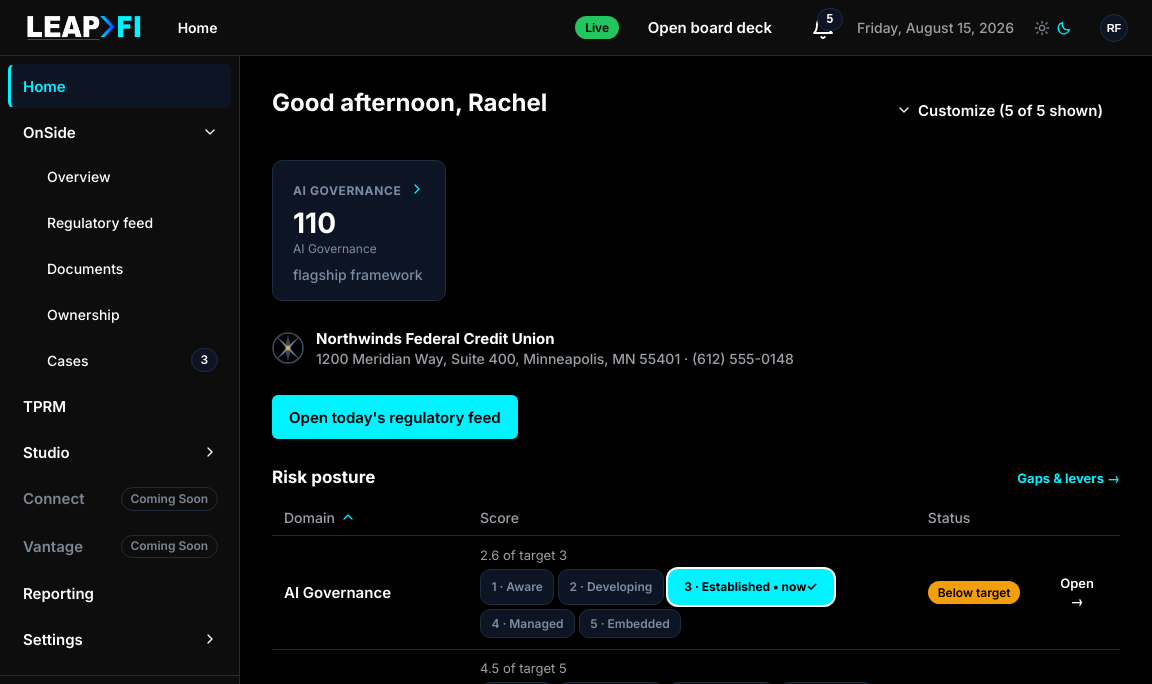
Test: Home customization: visibleKeys flow bar -> panels (base 4122–4193) › toggling a panel back on appends it to the END of the order (base homePanelToggle push semantics, 4149–4172)
Click the button "Customize (5 of 5 shown)" at x=999, y=110, box [879, 88, 1120, 132]
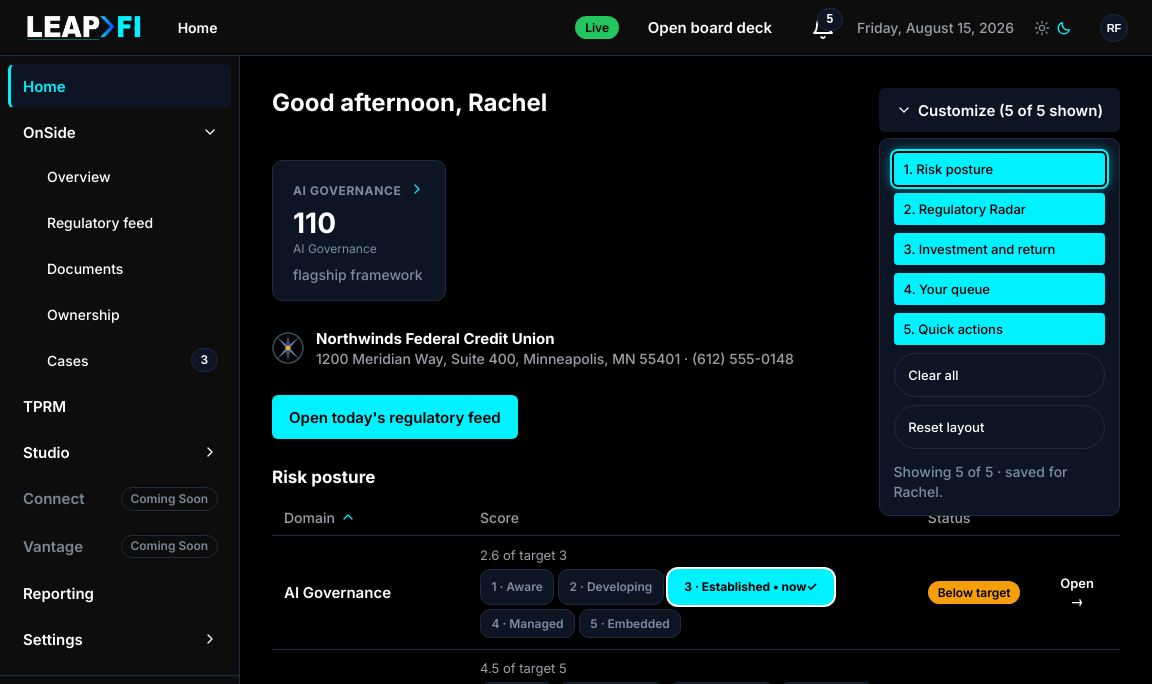
Click the button "1. Risk posture" at x=999, y=169, box [894, 153, 1105, 185]
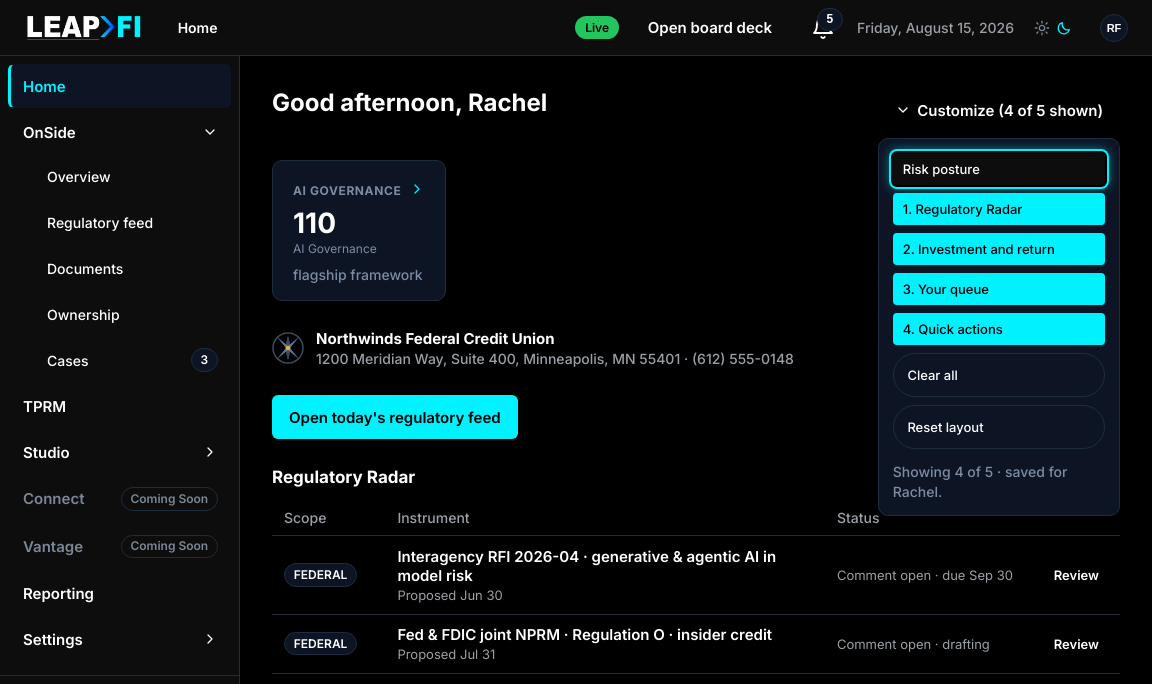
Note: Now off — the chip loses its position number.
Click the button "Risk posture" at x=999, y=169, box [893, 153, 1105, 185]
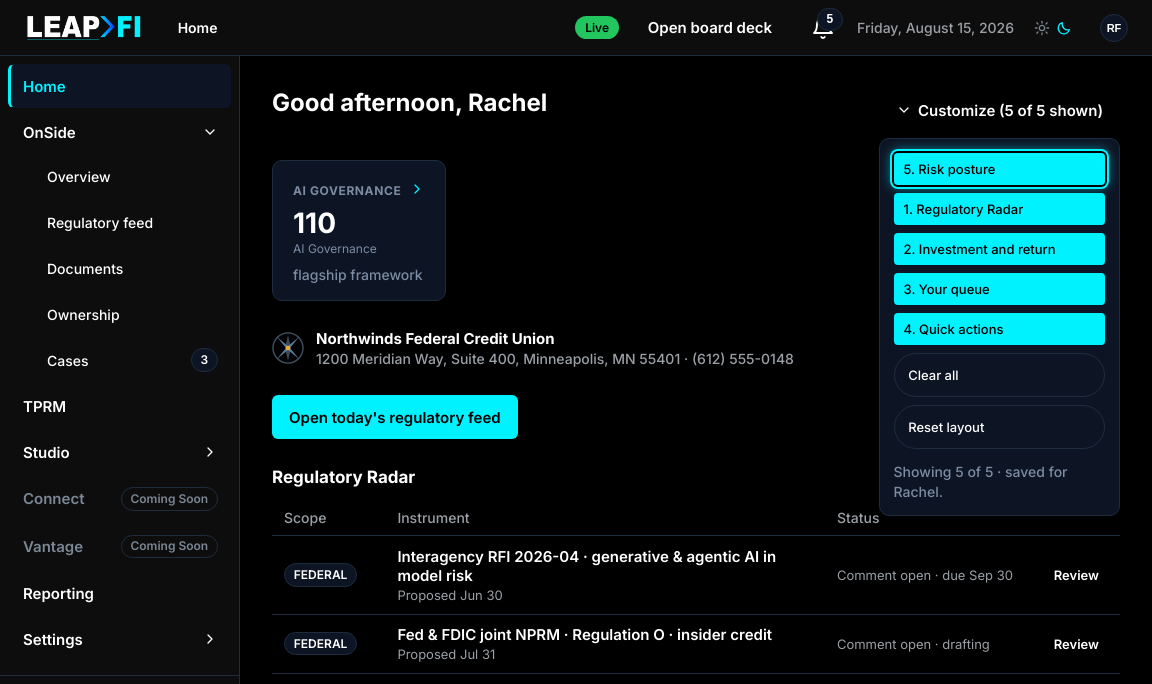
Check: the button "Customize (5 of 5 shown)" is shown, box [879, 88, 1120, 132]
